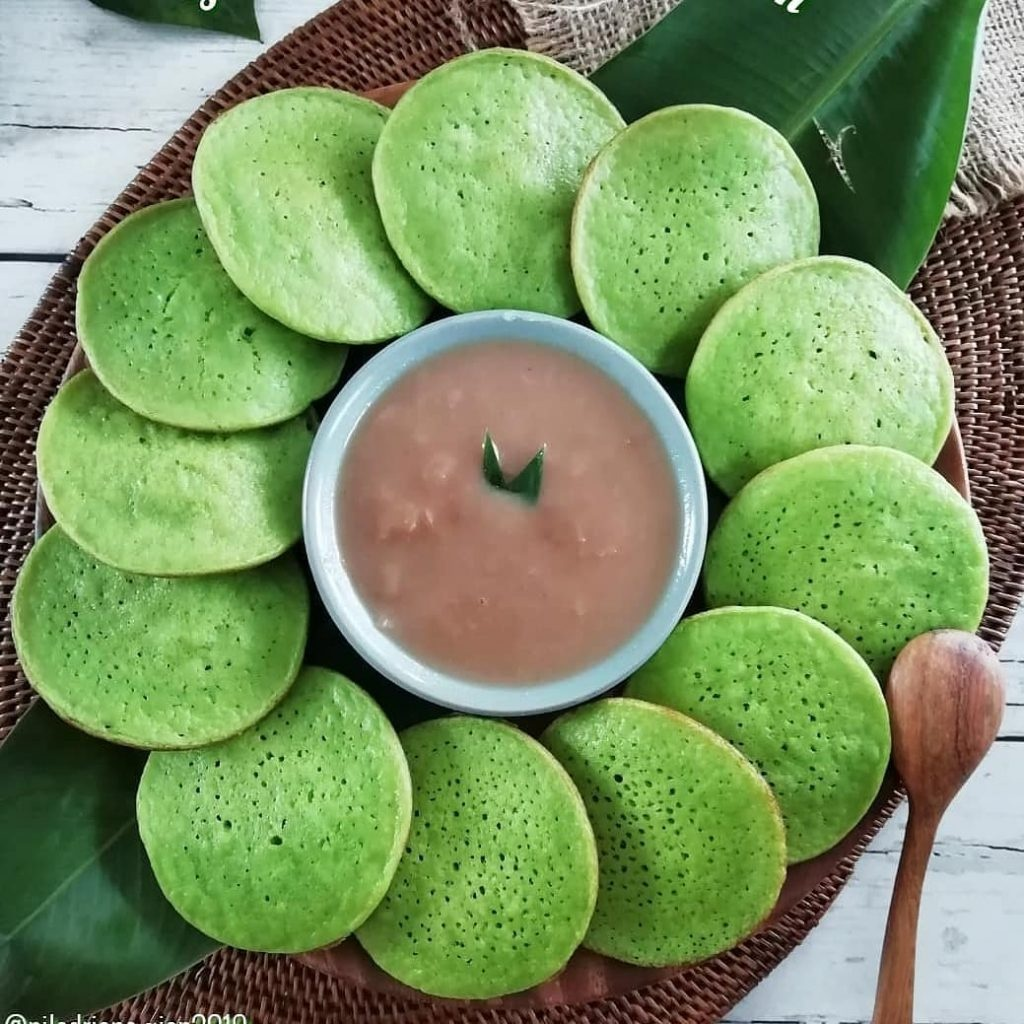srabi: (343, 48, 654, 305), (708, 232, 971, 498)
